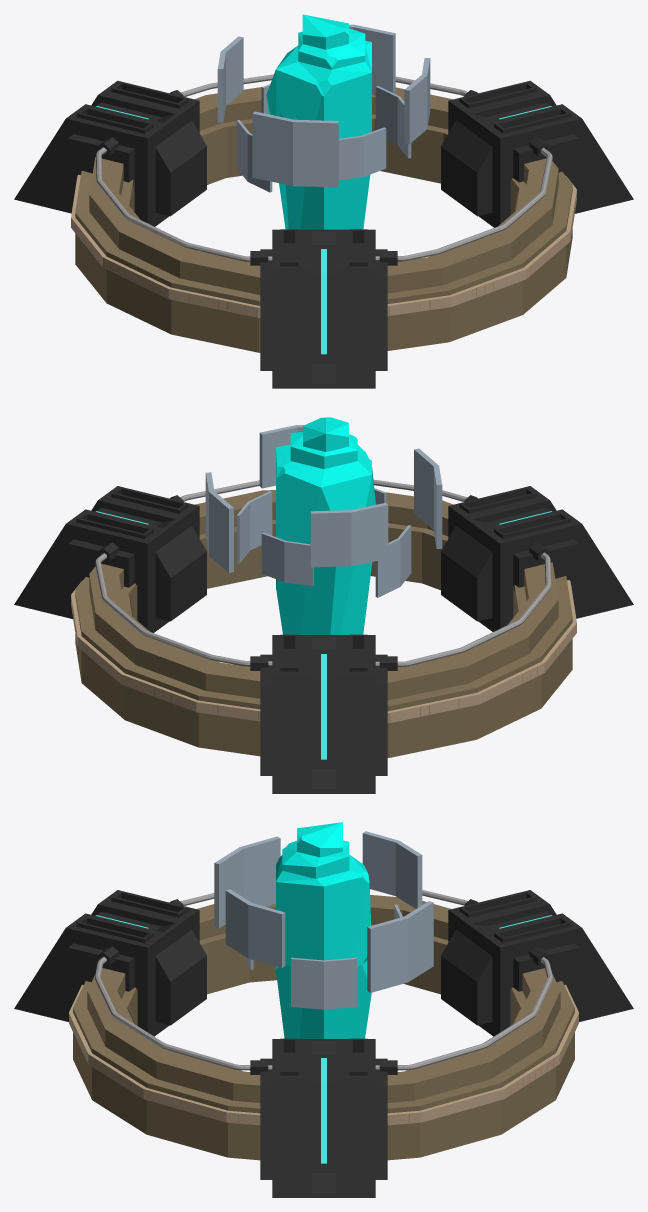
3 views of the same model, one above another, from view 1: azimuth 30°, elevation 25°; view 2: azimuth 150°, elevation 25°; view 3: azimuth 270°, elevation 25° (orthographic).
Visible parts, largest first — view 1: Cube.301, Circle.040, Cylinder.024, Circle.048, Circle.041, Circle.047, Circle.131, Circle.042, Cube.749; view 2: Cube.301, Circle.040, Cylinder.024, Circle.048, Circle.047, Circle.041, Circle.131, Circle.042, Cube.749; view 3: Cube.301, Circle.040, Circle.048, Cylinder.024, Circle.041, Circle.131, Circle.047, Circle.042, Cube.749.
Part boxes in pixels (x1,y1,x2,y2): Cube.301: [14, 80, 633, 388]; Circle.040: [75, 87, 572, 352]; Cylinder.024: [266, 14, 371, 229]; Circle.048: [217, 24, 430, 187]; Circle.041: [71, 174, 576, 317]; Circle.047: [236, 84, 411, 192]; Circle.131: [130, 119, 517, 214]; Circle.042: [96, 74, 552, 261]; Cube.749: [96, 106, 551, 354]; Cube.301: [14, 486, 633, 793]; Circle.040: [75, 490, 572, 757]; Cylinder.024: [276, 417, 375, 634]; Circle.048: [205, 425, 442, 572]; Circle.047: [236, 488, 411, 597]; Circle.041: [71, 580, 576, 723]; Circle.131: [130, 524, 517, 620]; Circle.042: [95, 479, 551, 666]; Cube.749: [96, 511, 551, 759]; Cube.301: [14, 890, 633, 1197]; Circle.040: [73, 895, 574, 1160]; Circle.048: [214, 831, 433, 992]; Cylinder.024: [276, 822, 371, 1038]; Circle.041: [69, 985, 578, 1125]; Circle.131: [128, 939, 519, 1025]; Circle.047: [245, 904, 402, 1009]; Circle.042: [95, 889, 552, 1070]; Cube.749: [96, 915, 551, 1163].
Bounding box in the file's own units: 474 × 245 × 503.
